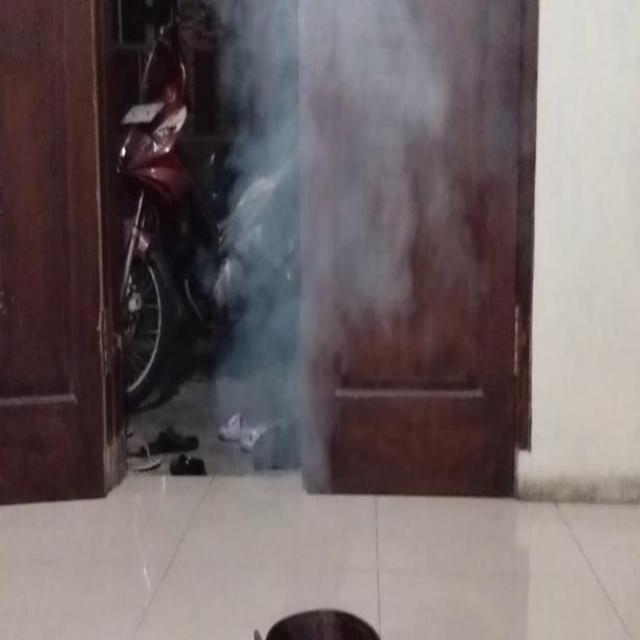fire: (227, 0, 442, 318), (208, 319, 346, 622)
